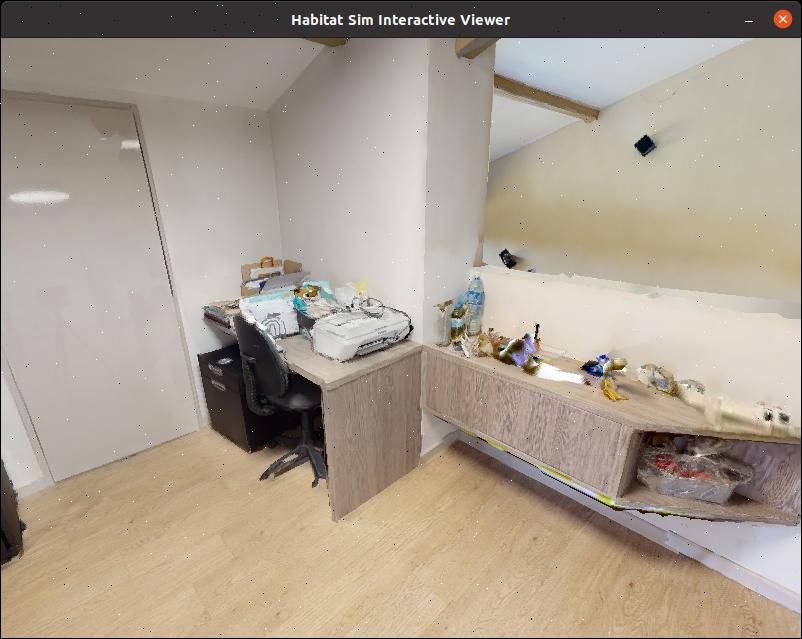chair: (215, 305, 336, 486)
table: (211, 277, 440, 510)
